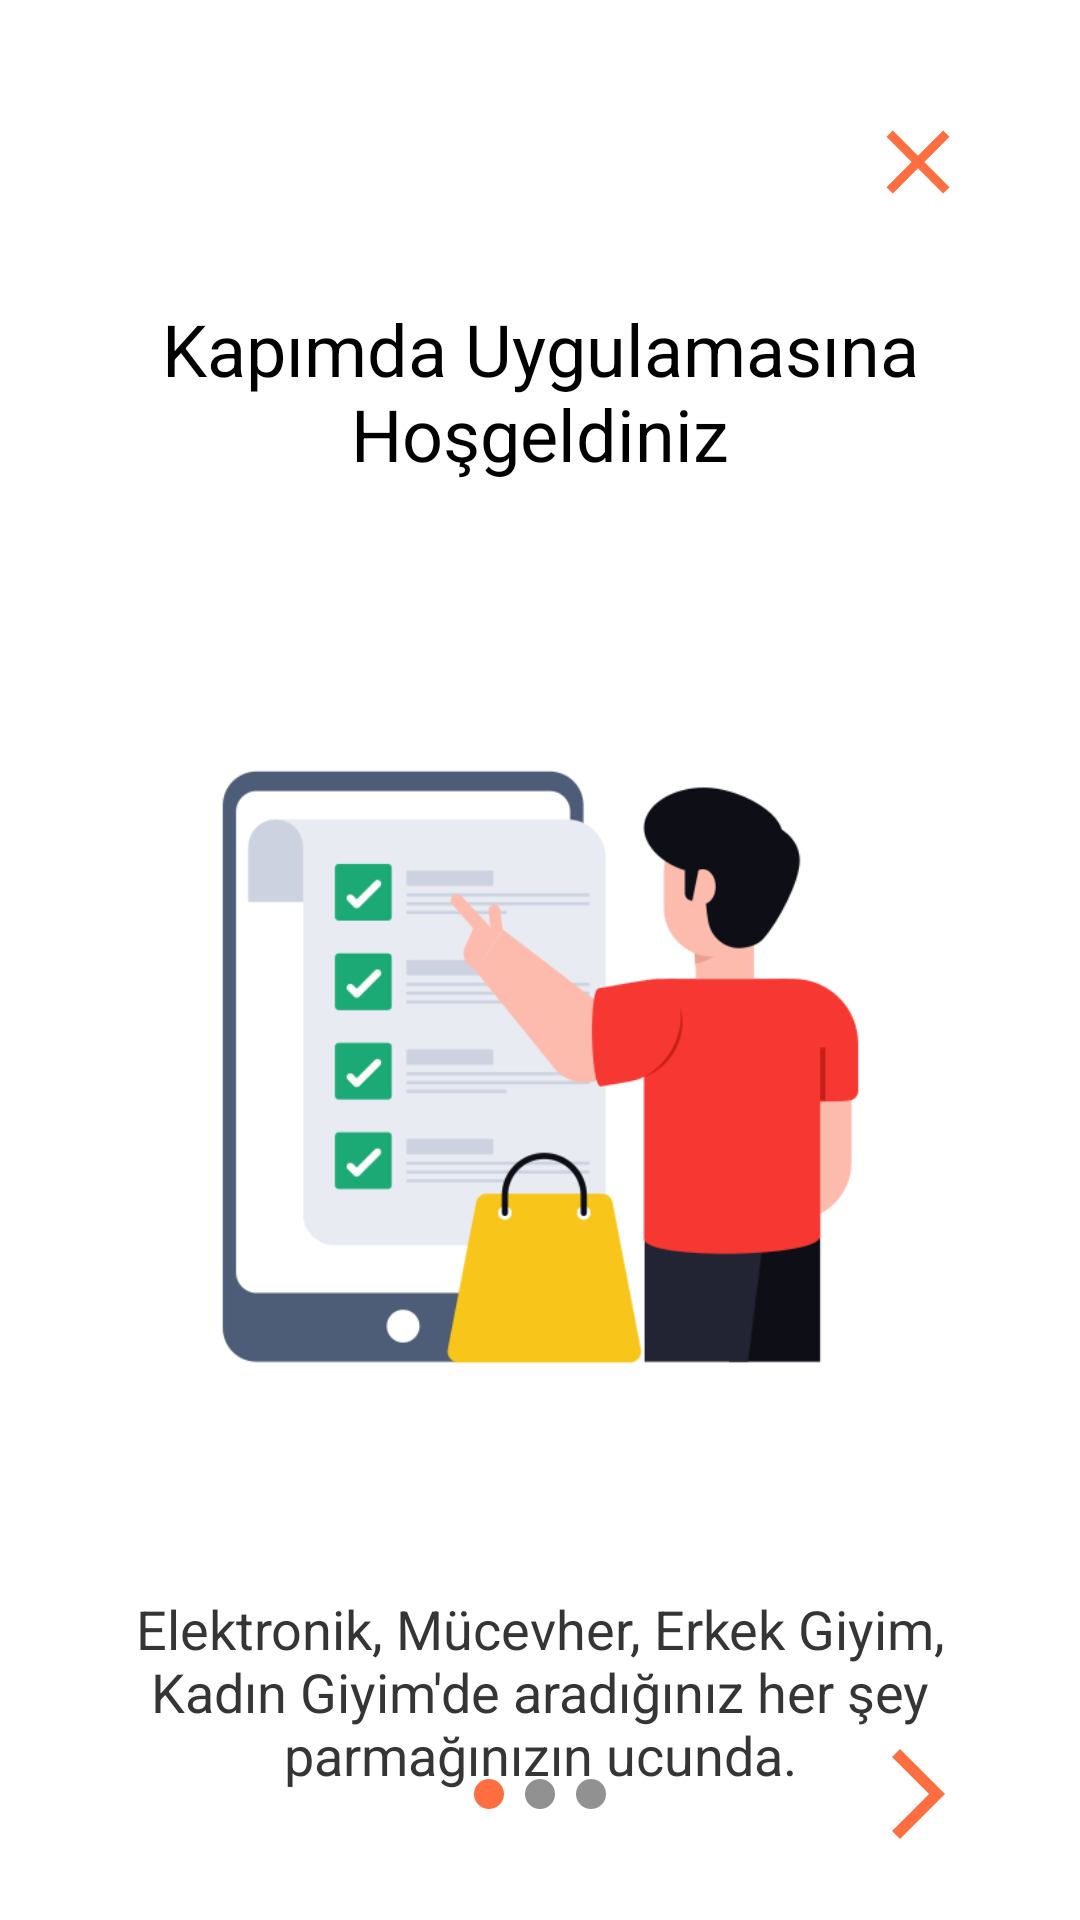

Icons on this 1080 × 1920 Android screen, each with the point to tap as point (x, y):
arrow forward: point (918, 1794)
close: point (918, 162)
onboarding dot: point (489, 1794), point (540, 1794), point (591, 1794)
